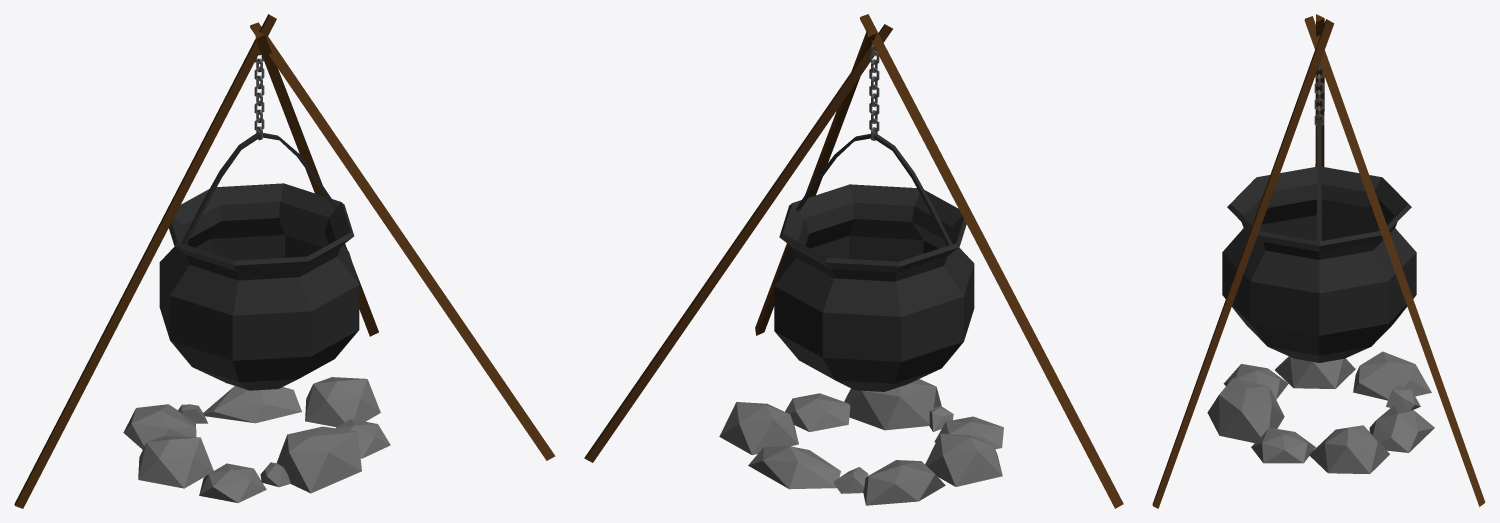
The model's file is MageHunter - CauldronWithFirepit.fbx.
3 views of the same model, side by side, from view 1: azimuth 30°, elevation 25°; view 2: azimuth 150°, elevation 25°; view 3: azimuth 270°, elevation 25° (orthographic). The views are drawn at different scales.
Parts seen in each view (by area): view 1: Circle, Circle.001, Circle.002, Rock_1, Icosphere, Icosphere.001, Rock_2.002, Rock_1.001, Circle.003, Rock_2, Cube, Rock_2.001 (+1 smaller); view 2: Circle, Circle.001, Circle.003, Rock_1, Rock_1.001, Icosphere, Icosphere.001, Rock_2.002, Circle.002, Rock_2.001, Cube, Rock_2 (+1 smaller); view 3: Circle, Circle.002, Circle.003, Rock_1, Rock_1.001, Icosphere.001, Rock_2.002, Icosphere, Rock_2.001, Rock_2, Circle.001, Cube (+1 smaller).
Part boxes in pixels (x1=…): Circle: x1=159, y1=183, x2=359, y2=390; Circle.001: x1=14, y1=14, x2=276, y2=508; Circle.002: x1=250, y1=22, x2=555, y2=460; Rock_1: x1=260, y1=426, x2=361, y2=493; Icosphere: x1=138, y1=435, x2=213, y2=488; Icosphere.001: x1=305, y1=377, x2=380, y2=427; Rock_2.002: x1=203, y1=386, x2=301, y2=423; Rock_1.001: x1=123, y1=404, x2=207, y2=449; Circle.003: x1=255, y1=30, x2=378, y2=336; Rock_2: x1=199, y1=463, x2=266, y2=502; Cube: x1=181, y1=132, x2=337, y2=244; Rock_2.001: x1=335, y1=419, x2=390, y2=458; Circle: x1=774, y1=184, x2=974, y2=391; Circle.001: x1=860, y1=14, x2=1123, y2=508; Circle.003: x1=584, y1=24, x2=892, y2=462; Rock_1: x1=844, y1=379, x2=953, y2=431; Rock_1.001: x1=833, y1=460, x2=945, y2=505; Icosphere: x1=925, y1=433, x2=1002, y2=486; Icosphere.001: x1=719, y1=402, x2=798, y2=455; Rock_2.002: x1=748, y1=446, x2=840, y2=489; Circle.002: x1=755, y1=29, x2=876, y2=335; Rock_2.001: x1=785, y1=393, x2=850, y2=431; Cube: x1=796, y1=133, x2=952, y2=245; Rock_2: x1=934, y1=416, x2=1003, y2=449; Circle: x1=1222, y1=166, x2=1416, y2=362; Circle.002: x1=1152, y1=19, x2=1334, y2=508; Circle.003: x1=1304, y1=16, x2=1485, y2=506; Rock_1: x1=1207, y1=378, x2=1284, y2=442; Rock_1.001: x1=1353, y1=351, x2=1431, y2=409; Icosphere.001: x1=1309, y1=425, x2=1389, y2=474; Rock_2.002: x1=1369, y1=405, x2=1434, y2=452; Icosphere: x1=1275, y1=356, x2=1355, y2=388; Rock_2.001: x1=1251, y1=427, x2=1315, y2=463; Rock_2: x1=1223, y1=364, x2=1288, y2=399; Circle.001: x1=1315, y1=14, x2=1324, y2=166; Cube: x1=1317, y1=119, x2=1321, y2=241.
Bounding box in the file's own units: 508 × 462 × 342.
